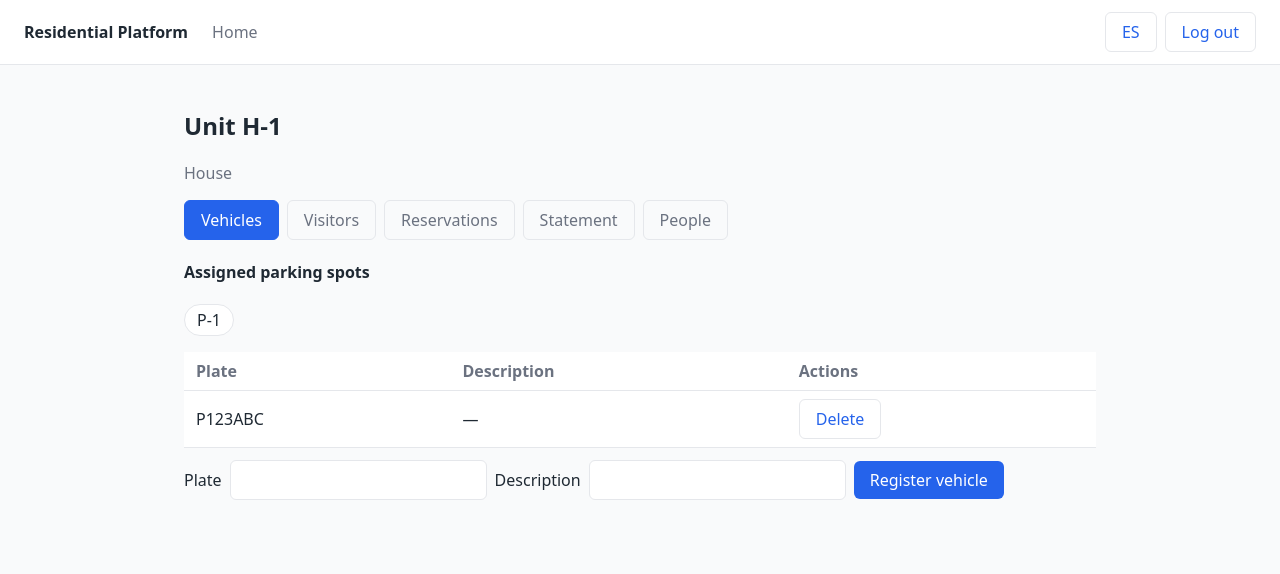
Test: unit page › lists vehicles and registers a new one
Check: the text "P123ABC" is shown, box [184, 391, 450, 448]
Check: the list item "P-1" is shown, box [184, 304, 234, 336]
Type "P456DEF" into the field labelled "Plate" at (358, 480), box [230, 460, 487, 500]
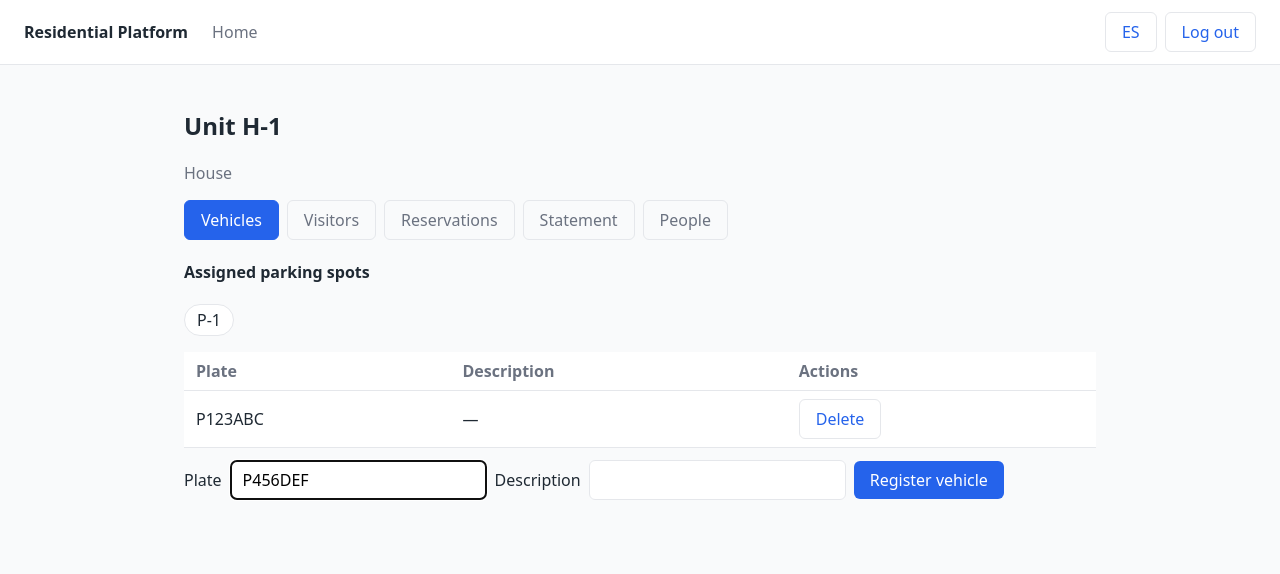
Click the button "Register vehicle" at (929, 480), box [854, 461, 1004, 499]
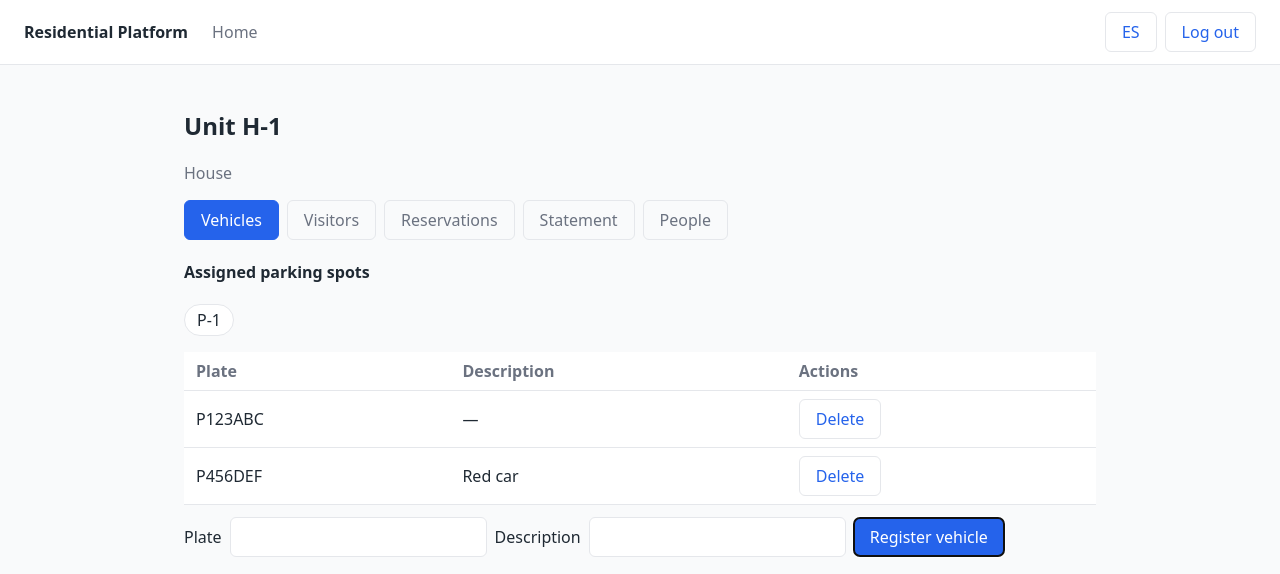
Check: the text "P456DEF" is shown, box [184, 448, 450, 505]
